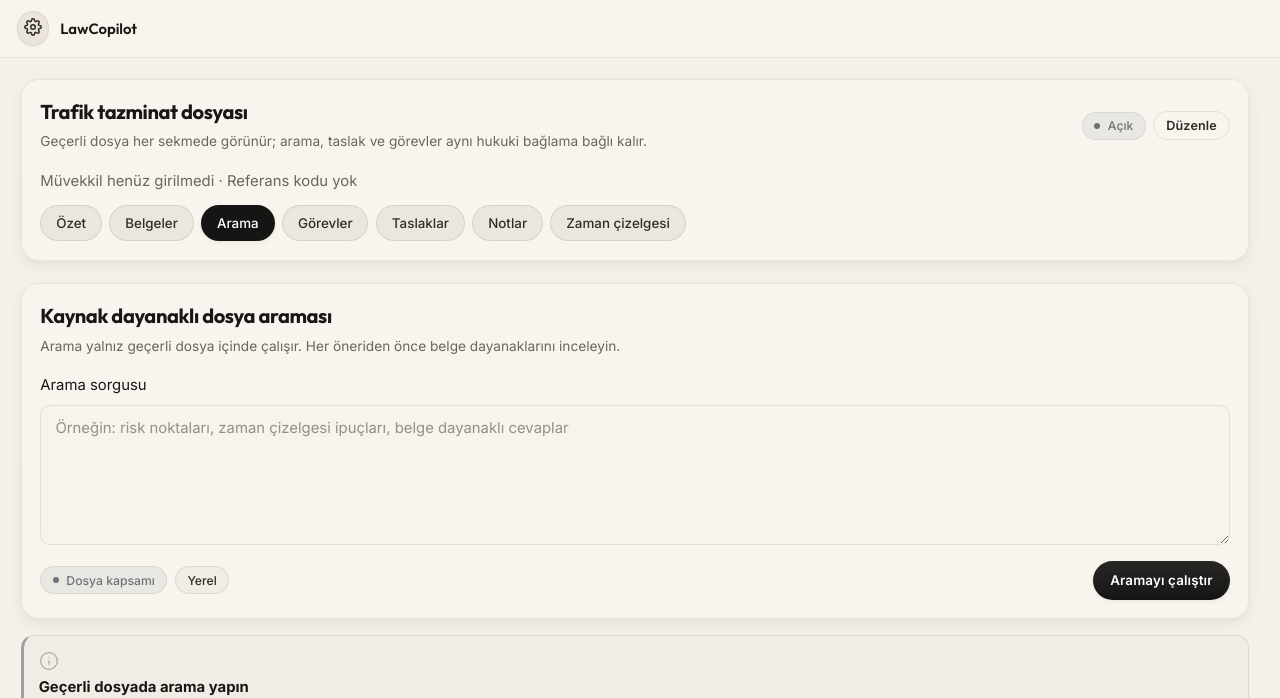
it: MatterDetailPage › renders search results
Check: the heading "Kaynak dayanaklı dosya araması" is shown, box [40,303,332,328]
Replace the text in the text box with placeholder "Örneğin: risk noktaları, zaman çizelgesi ipuçları, belge dayanaklı cevaplar" with "onarım maliyeti" at point(635, 475), box [40,405,1230,545]
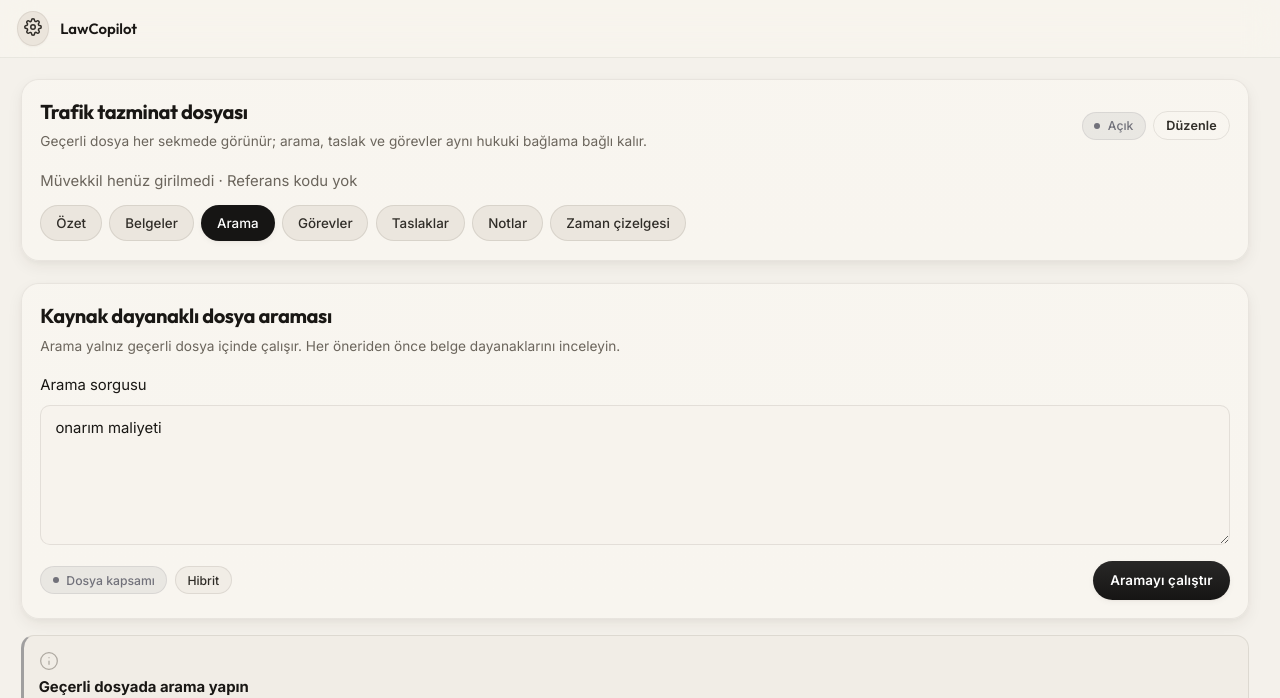
Click the button "Aramayı çalıştır" at point(1161, 580), box [1093,561,1230,600]
(page scrolled)
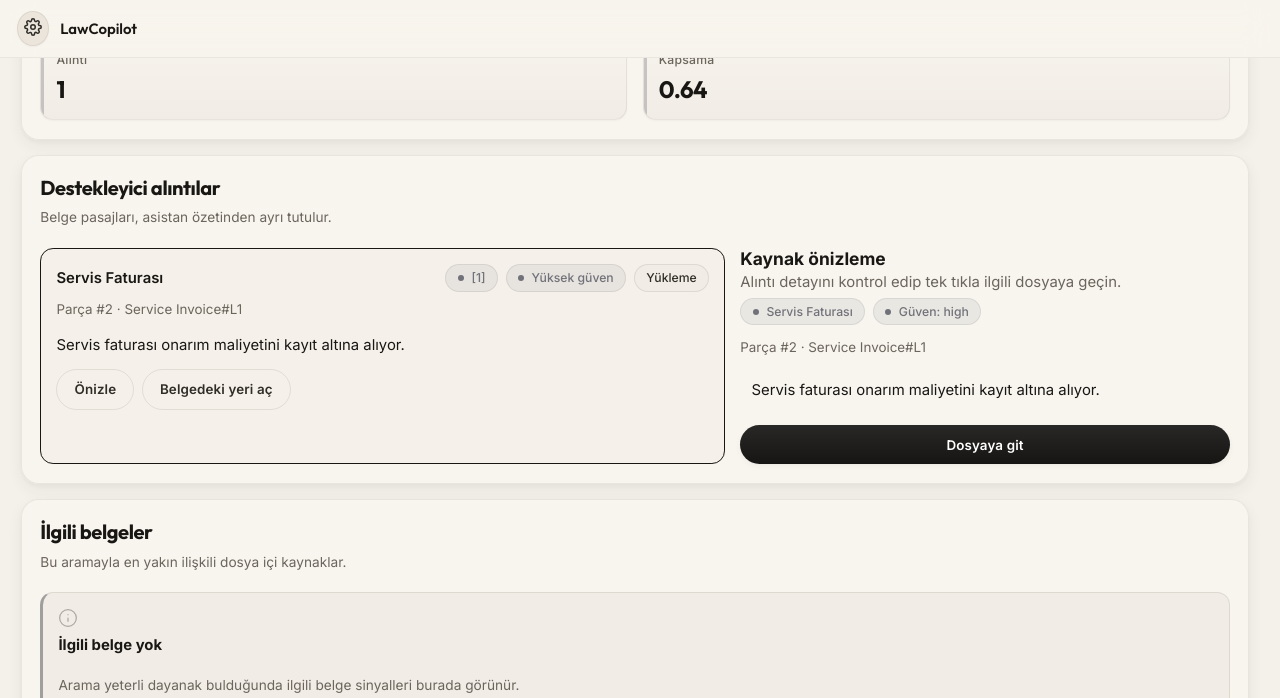
Check: the heading "Servis Faturası" is shown, box [56,269,163,287]
Click the button "Belgedeki yeri aç" at point(216, 390), box [142,369,291,410]
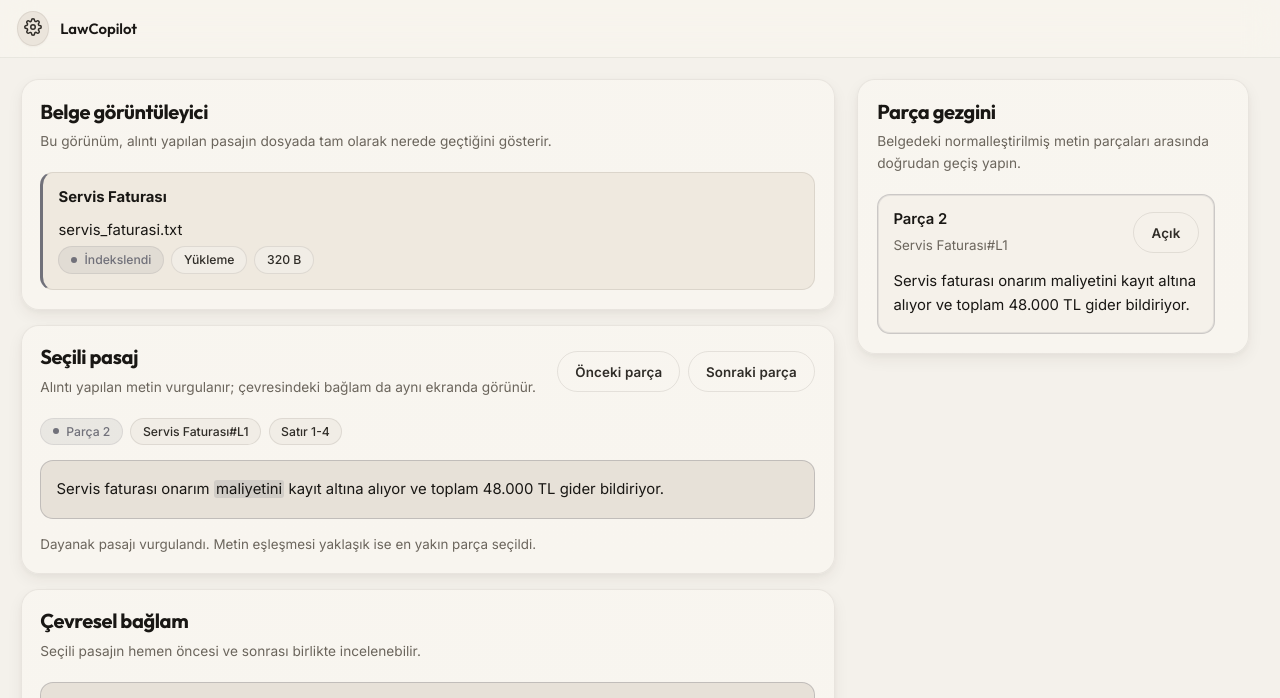
Check: the heading "Belge görüntüleyici" is shown, box [40,99,208,124]
